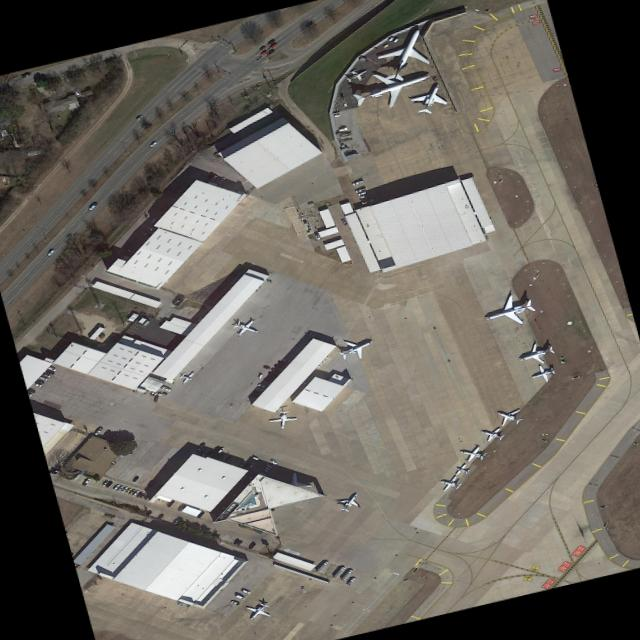large-vehicle: (314, 560, 327, 571), (339, 568, 352, 579), (332, 566, 344, 577)
plane: (343, 59, 437, 116), (366, 24, 445, 82), (477, 289, 538, 332), (404, 82, 454, 114), (333, 331, 380, 364), (515, 338, 556, 368), (276, 469, 312, 499), (488, 403, 528, 429), (238, 599, 275, 622), (227, 316, 263, 338), (453, 443, 488, 464), (475, 422, 508, 444), (332, 491, 365, 512), (433, 473, 464, 493), (528, 362, 556, 384), (267, 409, 296, 428), (342, 65, 370, 84), (175, 369, 196, 383), (452, 462, 472, 476)
small-vehicle: (158, 202, 168, 210), (149, 214, 158, 222), (246, 541, 256, 548), (87, 202, 96, 209), (345, 577, 354, 584), (160, 385, 170, 391), (208, 174, 216, 181), (81, 477, 89, 484), (93, 427, 101, 434), (351, 179, 362, 184), (354, 187, 365, 192), (234, 593, 243, 599), (20, 72, 30, 77), (49, 465, 59, 470), (52, 462, 62, 467), (31, 381, 41, 386), (216, 176, 224, 182), (176, 504, 184, 510), (195, 510, 203, 516), (231, 537, 239, 543), (356, 190, 365, 195), (46, 365, 55, 370), (216, 446, 223, 452), (115, 485, 122, 491), (127, 488, 134, 494), (104, 480, 111, 486), (266, 38, 273, 44), (165, 500, 172, 506), (46, 249, 53, 255), (238, 460, 245, 466), (199, 449, 206, 455), (267, 42, 275, 47), (240, 588, 248, 593), (139, 230, 147, 235), (35, 378, 43, 383), (38, 375, 46, 380), (138, 492, 144, 498), (124, 248, 133, 252), (233, 459, 239, 465), (148, 141, 155, 146), (111, 484, 118, 489), (120, 486, 127, 491), (258, 49, 265, 54), (235, 539, 242, 544), (45, 369, 52, 374), (247, 462, 254, 467), (192, 447, 199, 452), (230, 600, 238, 604), (270, 368, 278, 372), (276, 360, 284, 364), (26, 388, 34, 392), (101, 480, 107, 485), (124, 487, 130, 492), (131, 490, 137, 495), (135, 491, 141, 496), (143, 494, 149, 499), (171, 518, 177, 523), (156, 513, 162, 518), (135, 114, 141, 119), (340, 218, 345, 224), (152, 395, 157, 401), (223, 455, 229, 460), (220, 454, 226, 459), (197, 449, 203, 454), (257, 383, 264, 387), (249, 393, 256, 397), (282, 358, 289, 362), (42, 372, 49, 376), (212, 446, 219, 450), (131, 476, 137, 480), (258, 45, 264, 49), (267, 372, 275, 375), (267, 49, 273, 53), (263, 377, 269, 381), (269, 459, 275, 463), (255, 387, 262, 390), (266, 375, 273, 378), (273, 364, 280, 367), (252, 390, 259, 393), (300, 586, 304, 591), (26, 392, 31, 396), (262, 365, 268, 368)
